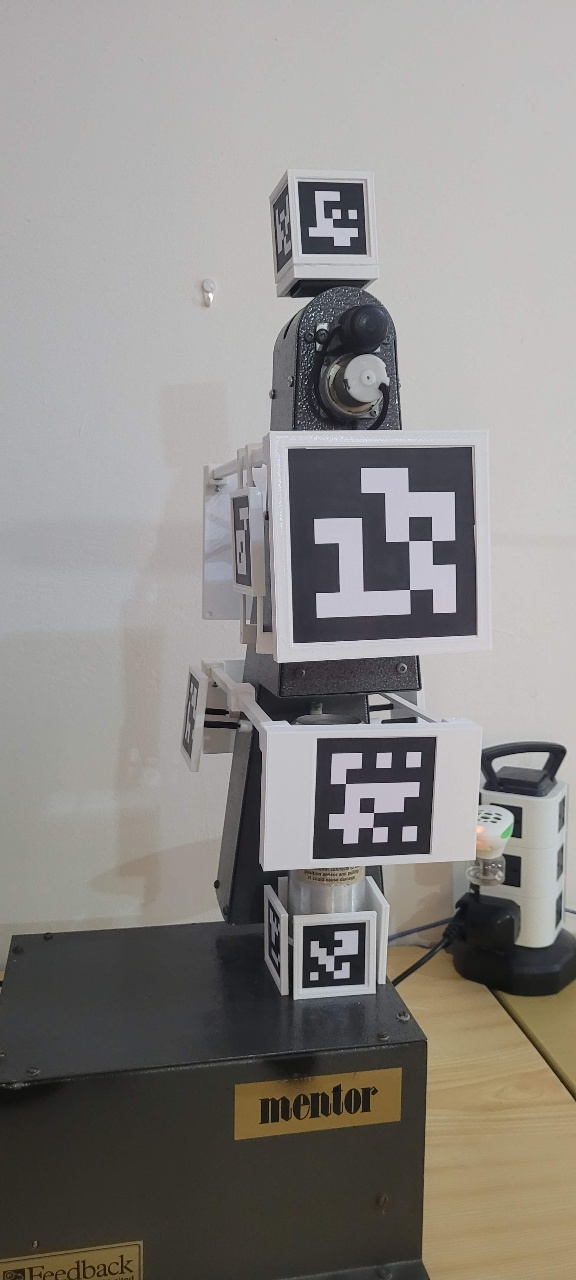Robot: (174, 169, 492, 1000)
